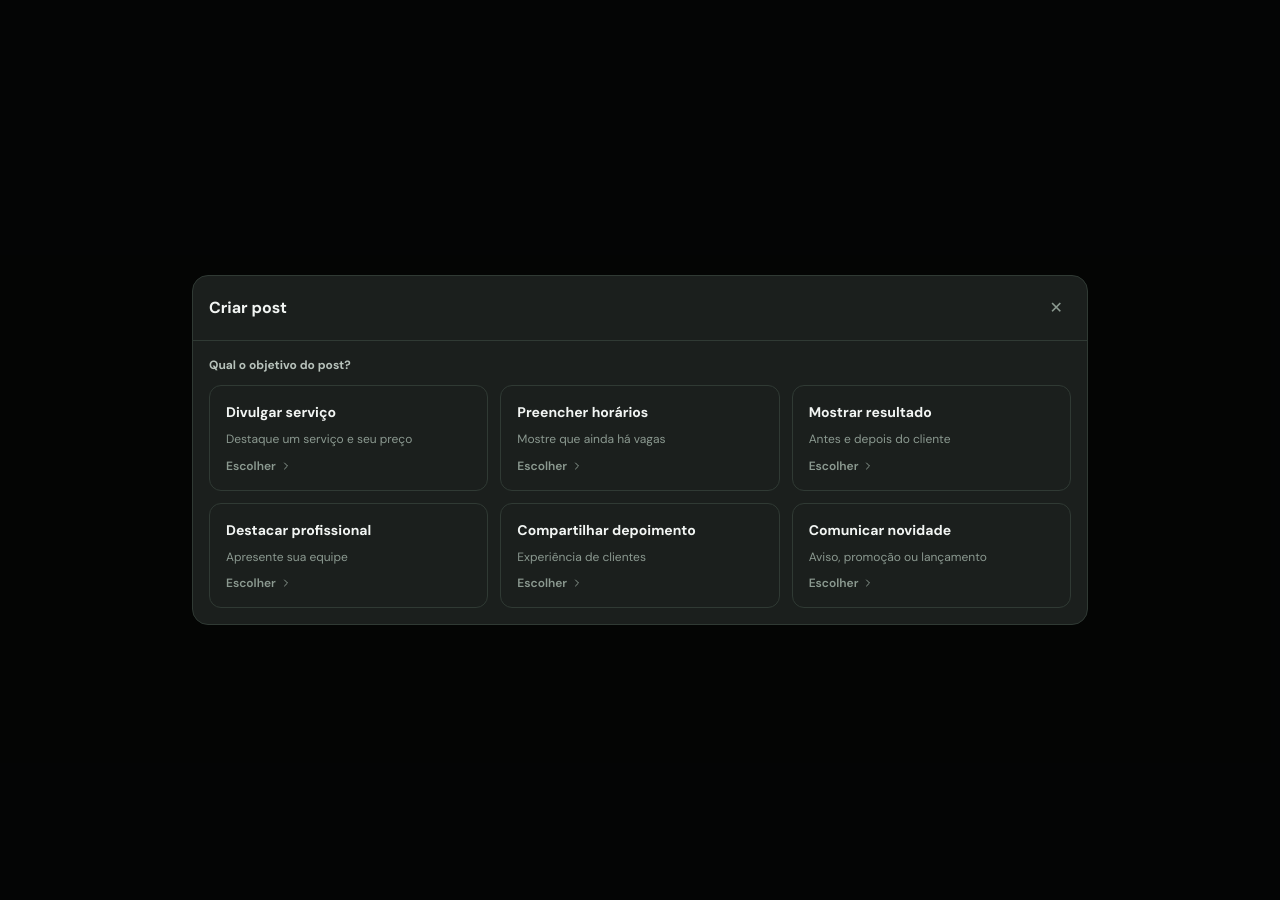
Test: PostEditor — photoMode › modelo sem foto não exige upload e esconde slots
What coordinates should you click on to do the following:
click the text "Divulgar serviço"
I would click on:
 (281, 412)
Its box is 226,402 -> 336,422.
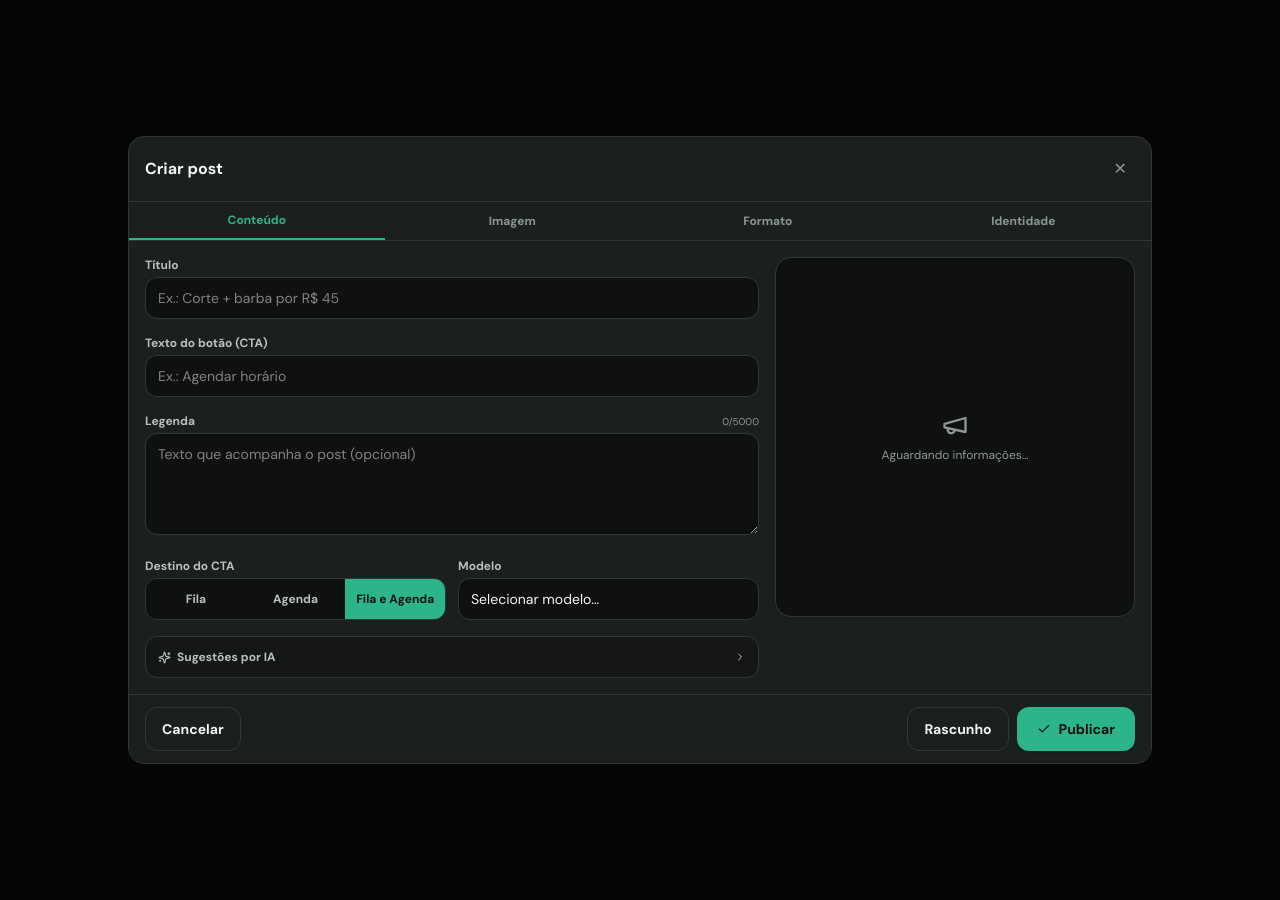
What coordinates should you click on to do the following:
click the button "Selecionar modelo…"
I would click on:
 (535, 599)
Its box is 458,578 -> 759,620.
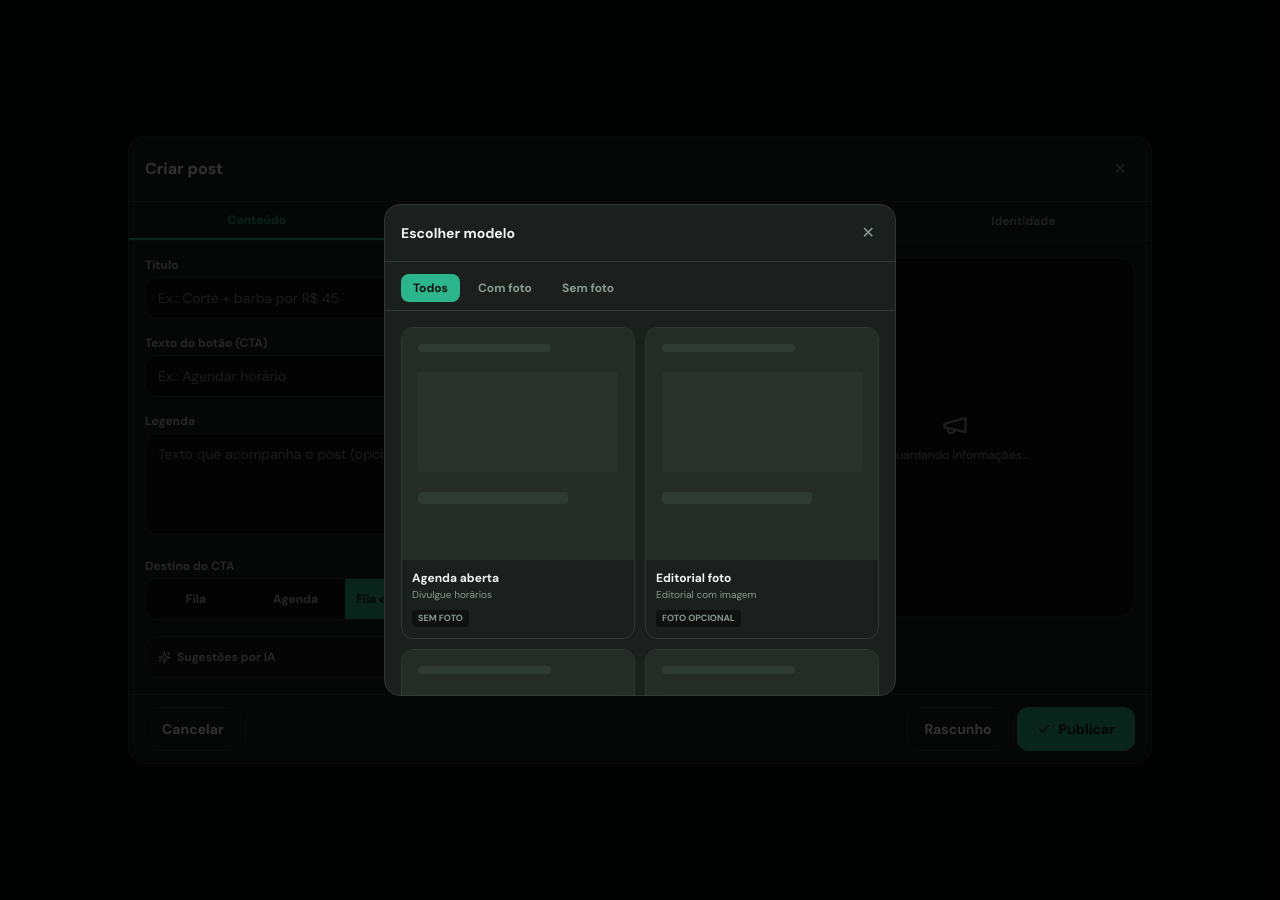
What coordinates should you click on to do the following:
click the text "Agenda aberta"
I would click on:
 (456, 578)
Its box is 412,570 -> 499,586.
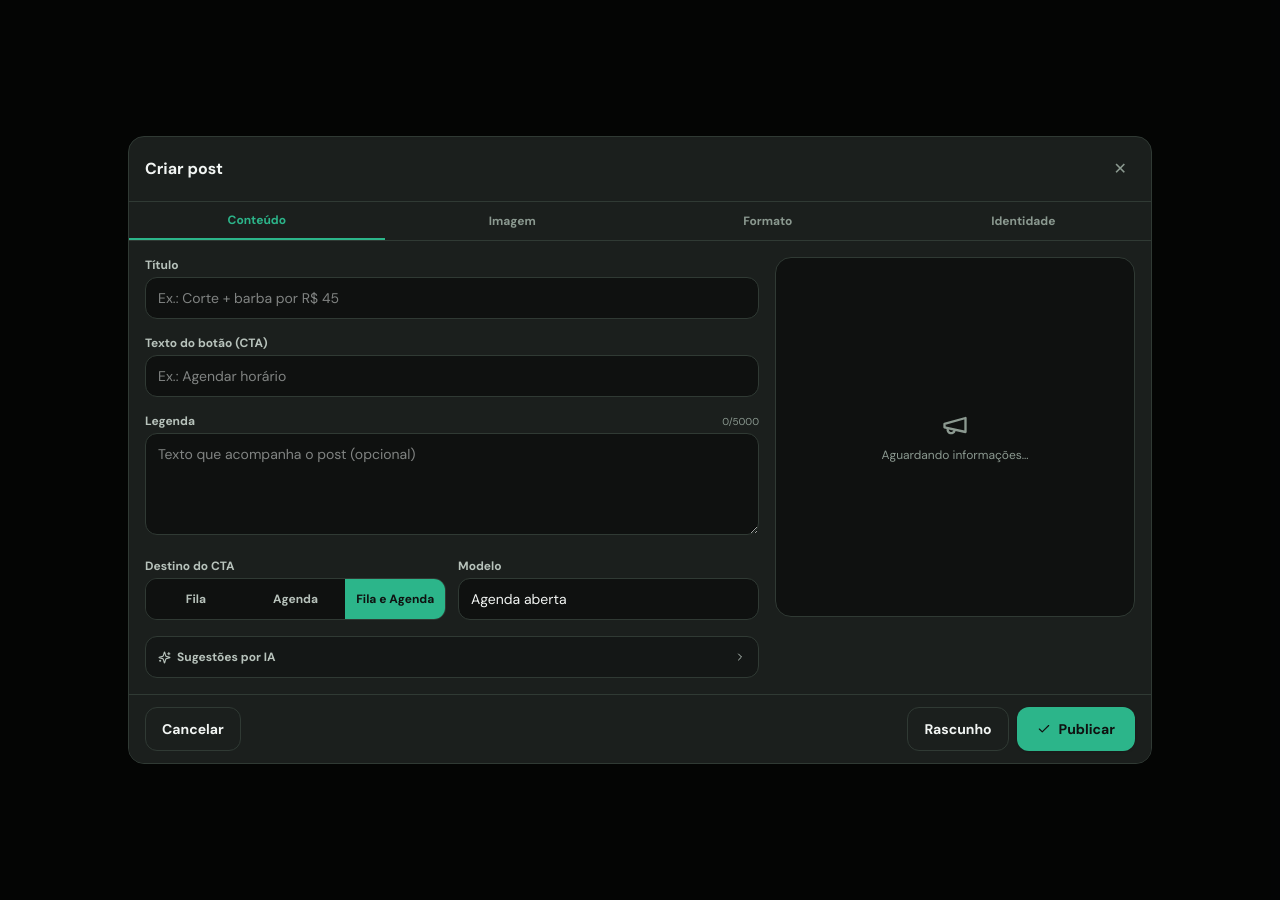
What coordinates should you click on to do the following:
click the button "Imagem"
I would click on:
 (512, 221)
Its box is 384,202 -> 640,240.
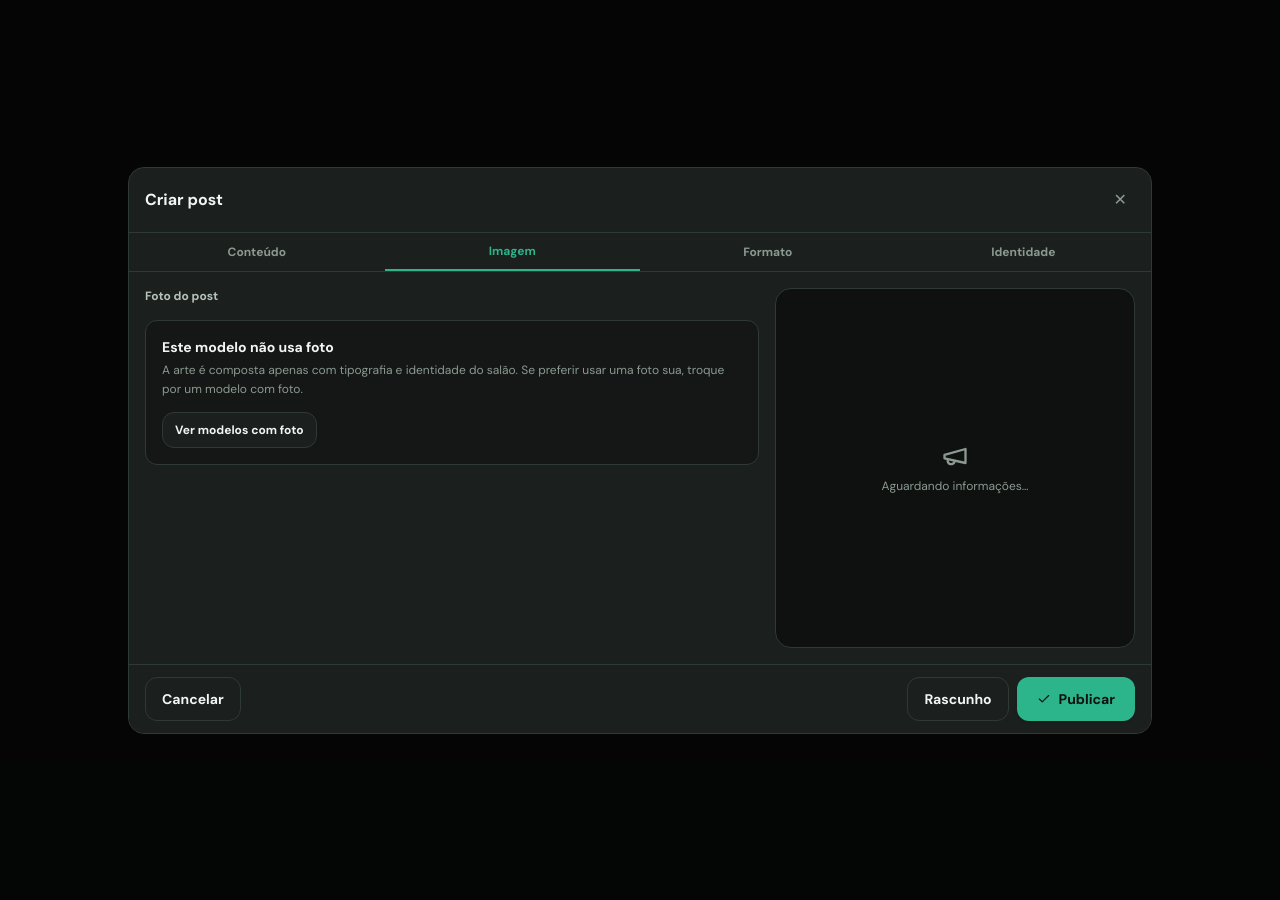
Expected: the text "Este modelo não usa foto" is shown, 162,338 -> 334,356
